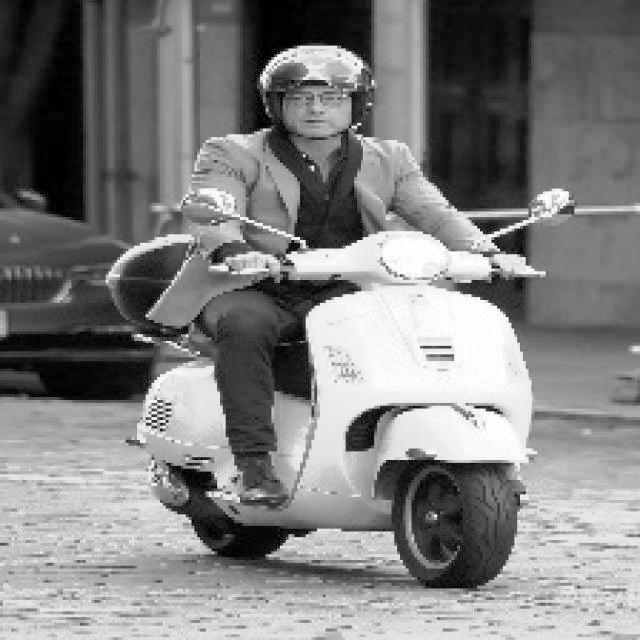Bike: (121, 250, 545, 600)
